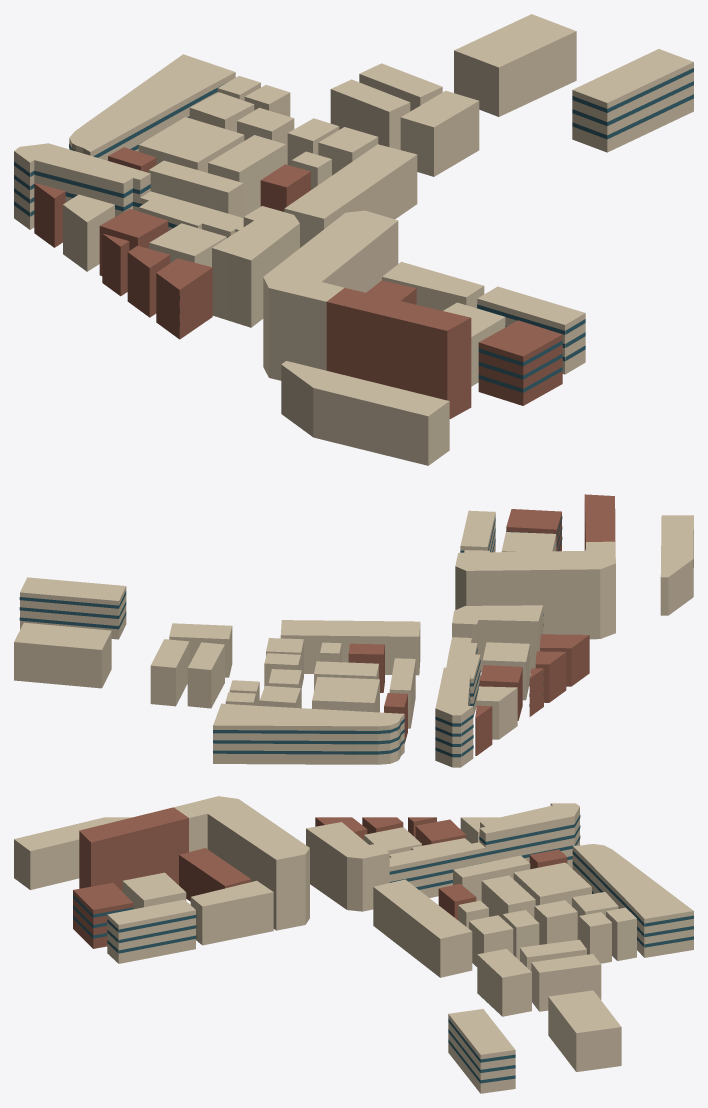
File: city_-4_-4.glb
3 renders of one model, top to bottom at view 1: azimuth 30°, elevation 25°; view 2: azimuth 150°, elevation 25°; view 3: azimuth 270°, elevation 25°, orthographic. The views are drawn at different scales.
Parts seen in each view (by area): view 1: city_-4_-4; view 2: city_-4_-4; view 3: city_-4_-4.
Boxes of the visible parts, box(x1,y1,x2,y2) form: city_-4_-4: box(14, 14, 693, 465); city_-4_-4: box(14, 494, 693, 767); city_-4_-4: box(14, 796, 693, 1093).
Bounding box in the file's own units: 196 × 27.2 × 237.
